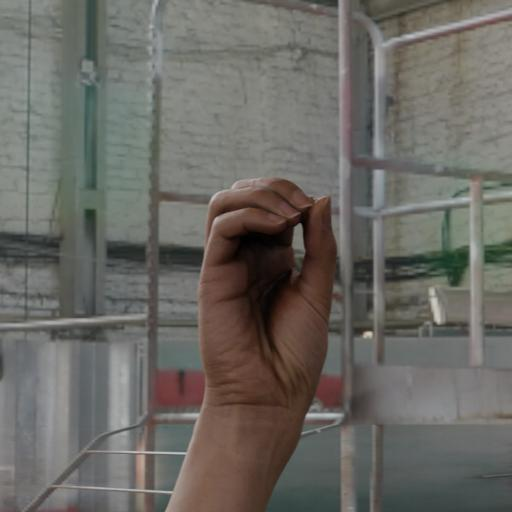O: (189, 152, 346, 433)
